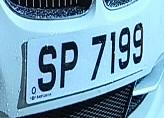1: (108, 22, 118, 81)
7: (88, 28, 107, 86)
9: (117, 22, 132, 75), (130, 16, 144, 71)
P: (58, 33, 80, 96)
S: (35, 39, 58, 98)
